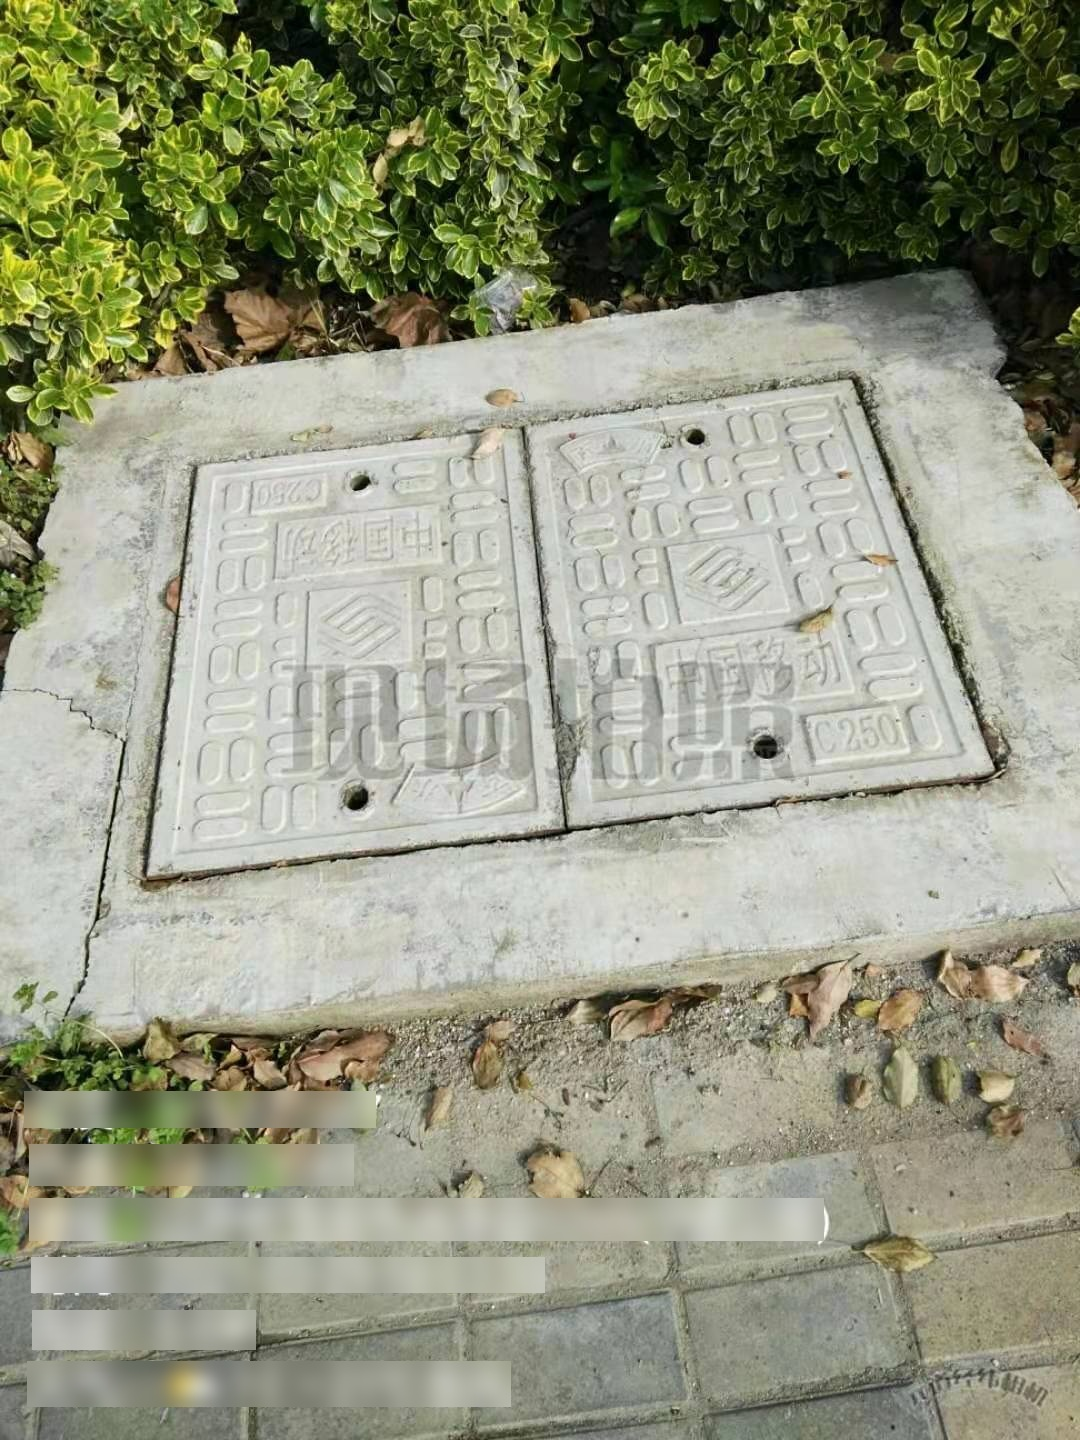good: (113, 369, 1002, 886)
